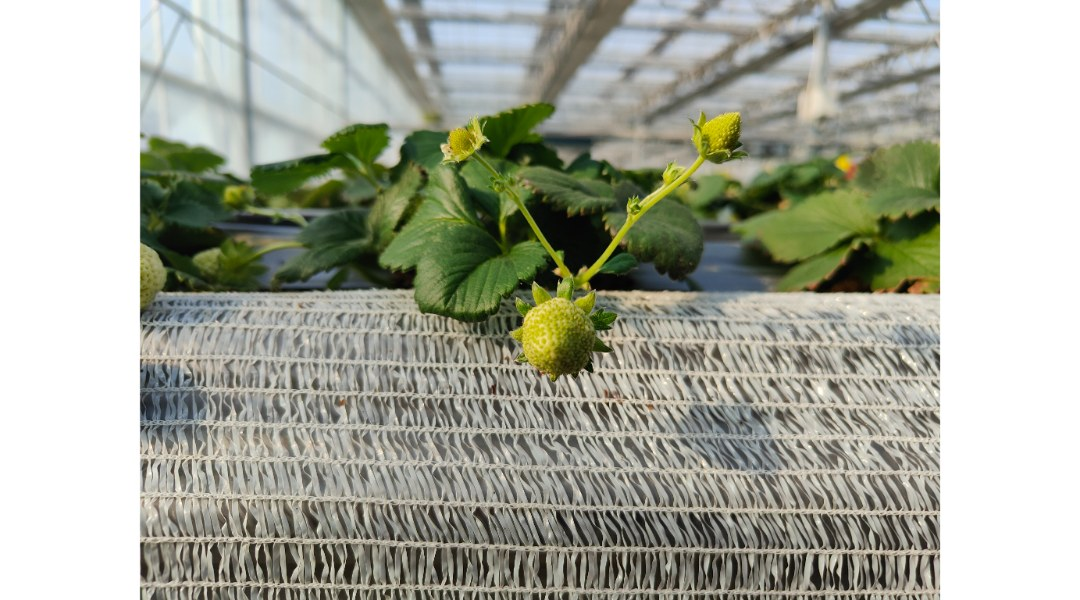berry: (512, 282, 600, 391), (691, 100, 756, 170), (425, 121, 494, 166)
strain: (589, 163, 701, 272), (505, 182, 566, 268)
